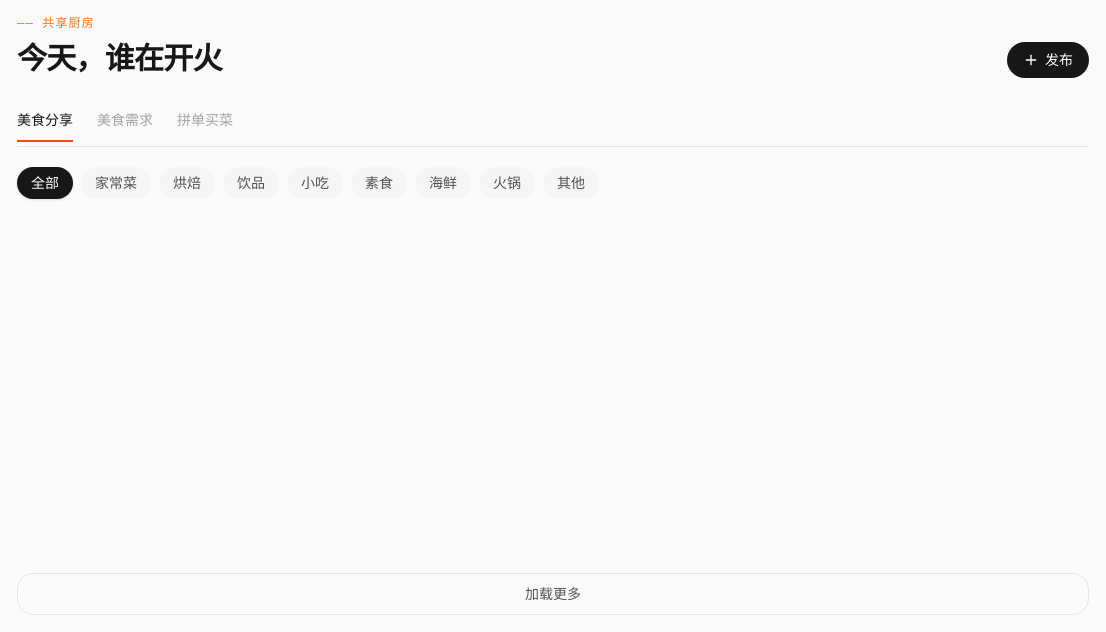
it: SharedKitchen/index 共享厨房列表页 › 点击"美食需求"Tab 切换标题为"邻居们想吃啥"并传 type=need
Step 1. Click the button "美食需求" → {"x": 125, "y": 126}, box [97,110,153,142]
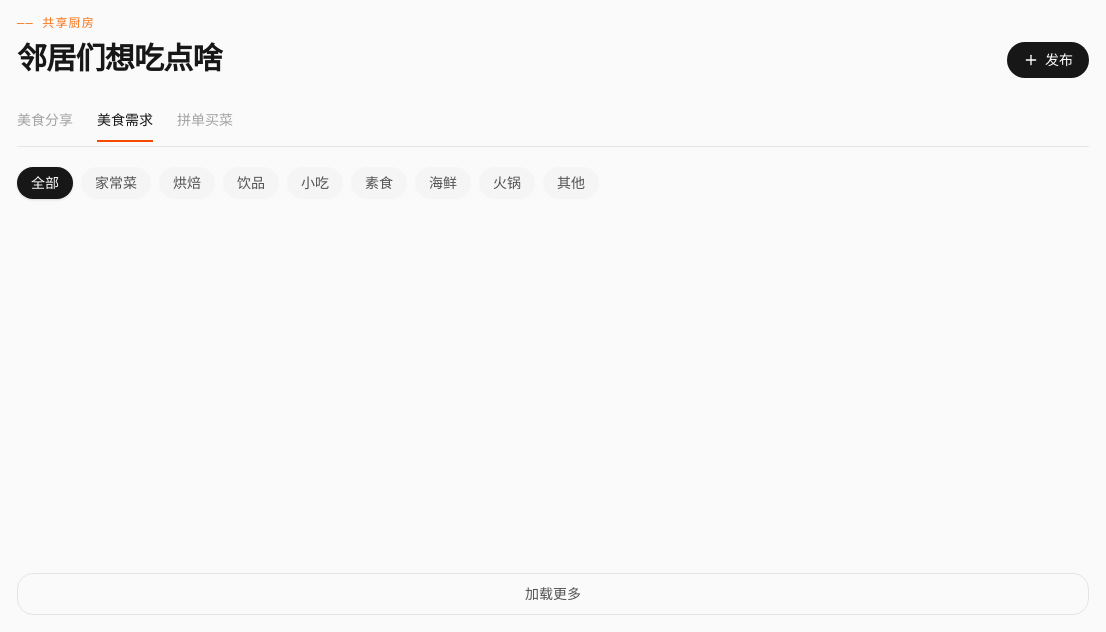
Expected: the heading "邻居们想吃点啥" is shown, [17,40,222,78]
